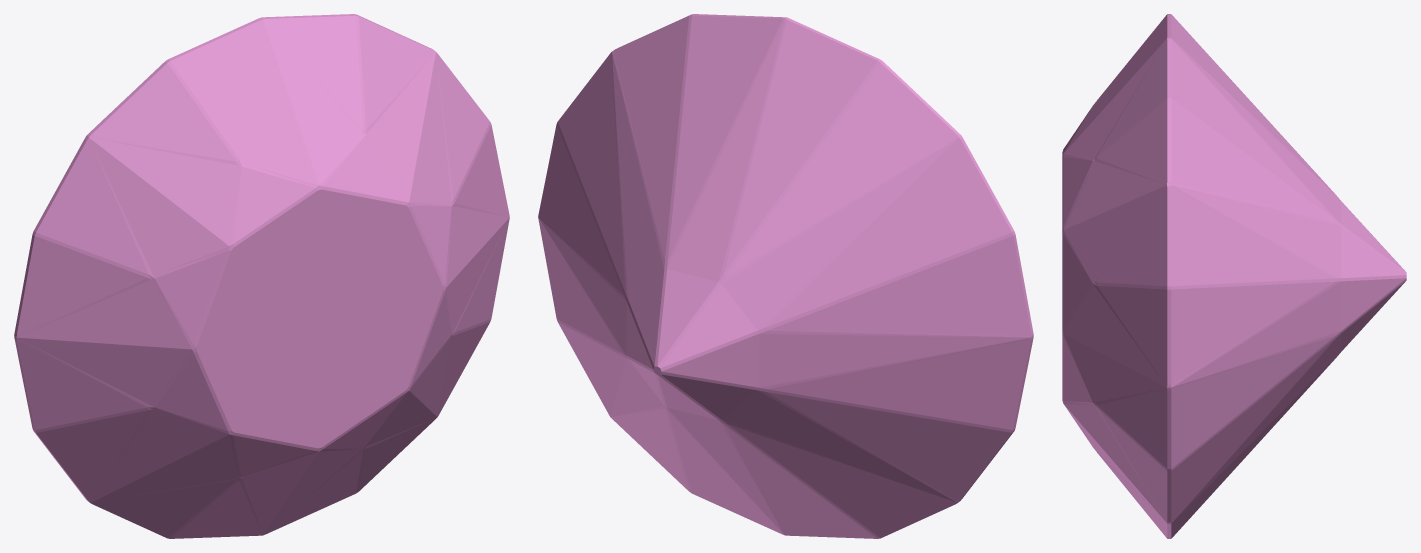
File: Diamond_1.obj
The picture shows the model from 3 angles, left to right: view 1: azimuth 30°, elevation 25°; view 2: azimuth 150°, elevation 25°; view 3: azimuth 270°, elevation 25°; orthographic projection. The views are drawn at different scales.
Parts seen in each view (by area): view 1: Diamond01; view 2: Diamond01; view 3: Diamond01.
Part boxes in pixels (left/top/right/bottom): Diamond01: left=14, top=14, right=509, bottom=538; Diamond01: left=538, top=14, right=1033, bottom=538; Diamond01: left=1062, top=14, right=1406, bottom=538.
Bounding box in the file's own units: 1.32 × 1.32 × 0.8629.
